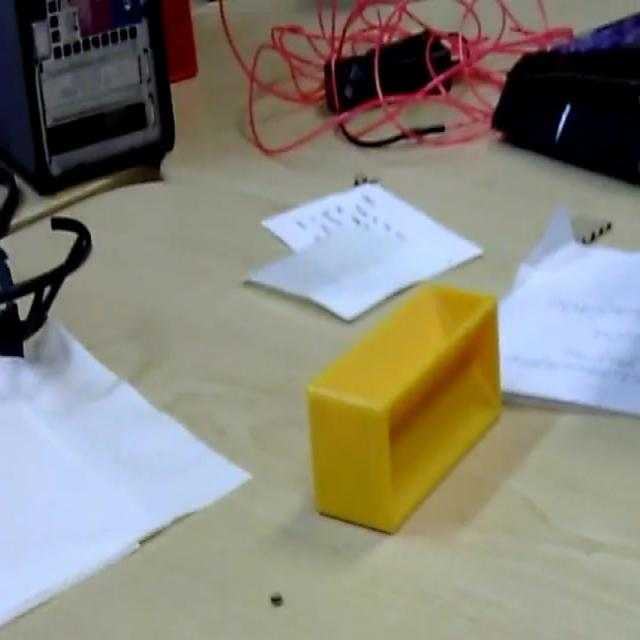yellow_block: (304, 282, 502, 534)
